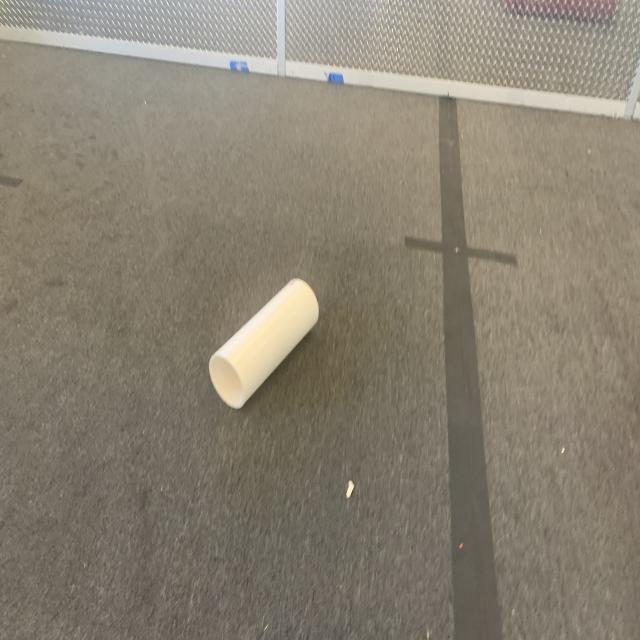Coral: (207, 276, 320, 410)
